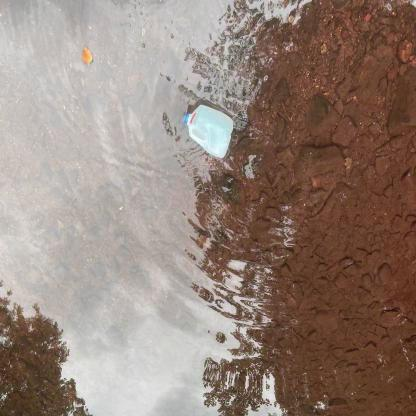Plastic: (179, 99, 240, 162)
